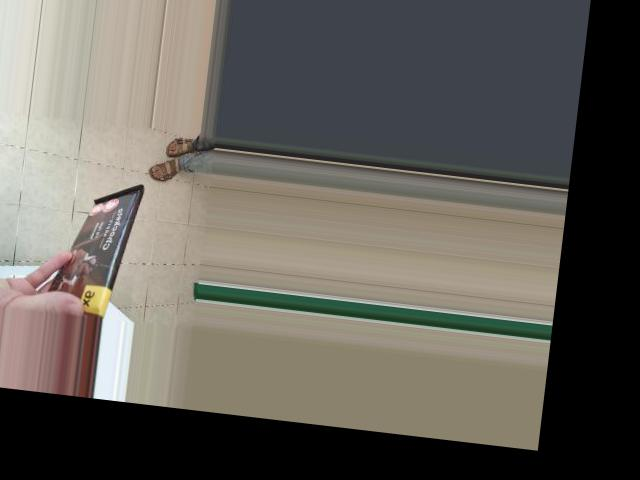chocolate: (5, 138, 160, 268)
